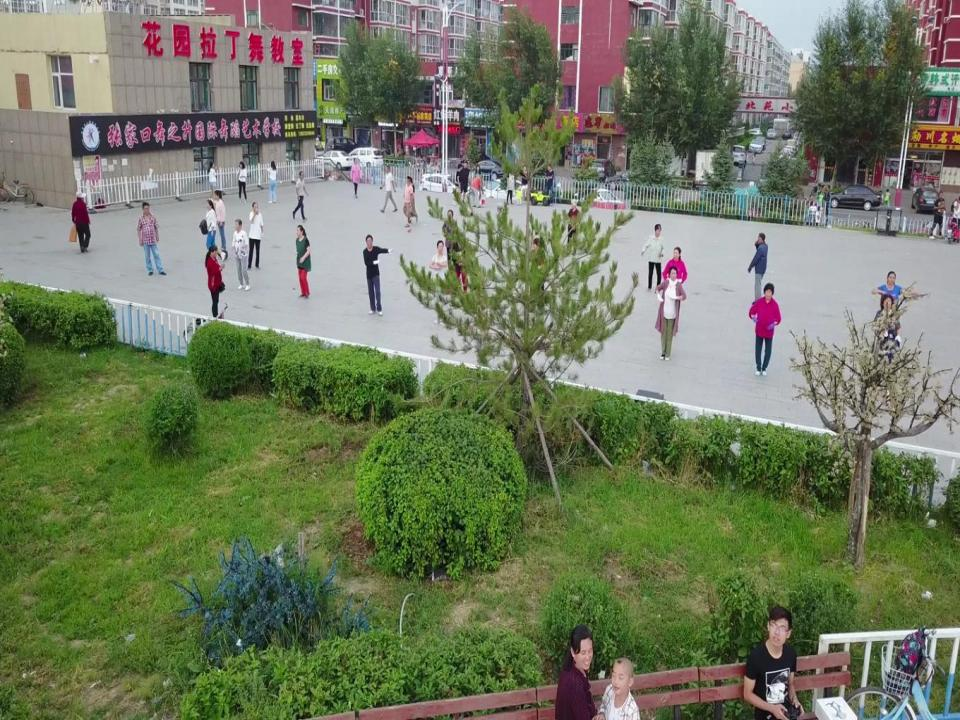car: (825, 183, 882, 211), (571, 188, 622, 219), (480, 180, 528, 207), (606, 165, 655, 191), (419, 173, 461, 201), (347, 148, 384, 172), (470, 160, 506, 184), (911, 186, 939, 214), (324, 136, 356, 160), (315, 150, 352, 170), (588, 159, 616, 180), (730, 146, 747, 166), (748, 138, 762, 154), (756, 137, 767, 152), (746, 127, 762, 137), (794, 132, 804, 145), (781, 129, 792, 140), (766, 129, 775, 138)
